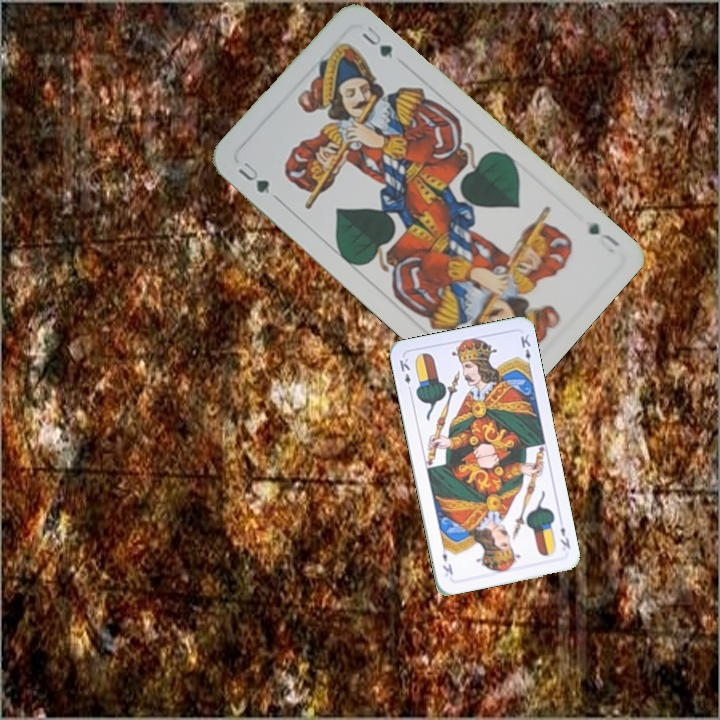EK: (395, 354, 414, 395), (556, 523, 573, 551)
GU: (234, 158, 273, 197), (584, 217, 623, 253)
